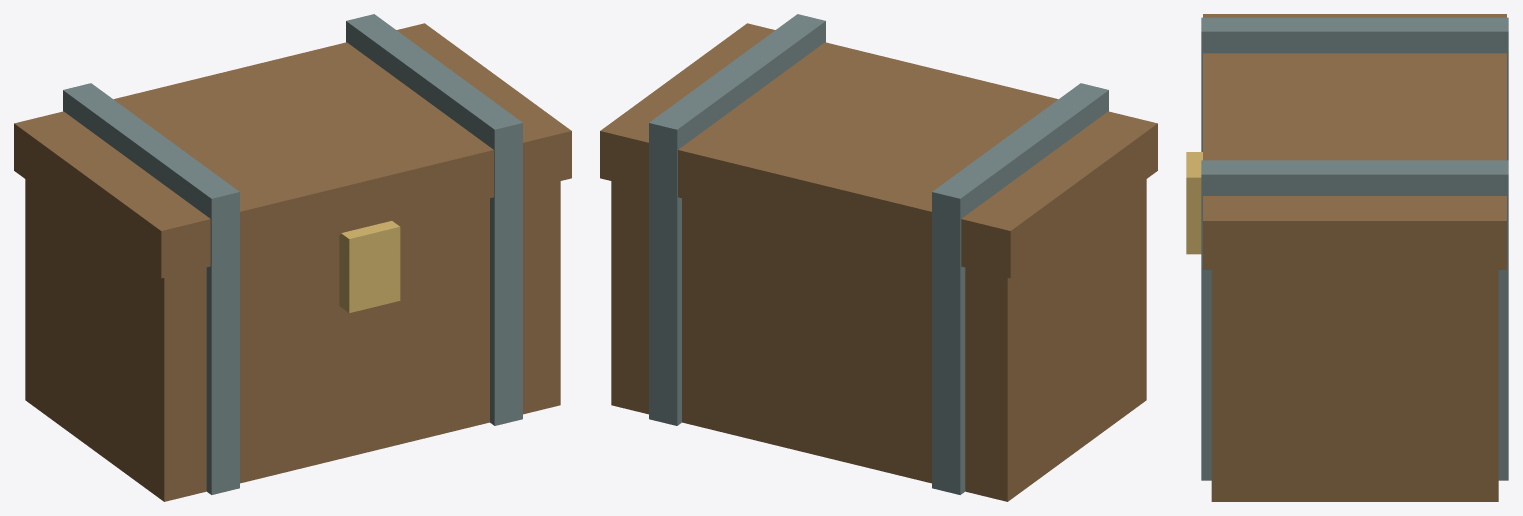
File: dungeon_chest.glb
3 views of the same model, side by side, from view 1: azimuth 30°, elevation 25°; view 2: azimuth 150°, elevation 25°; view 3: azimuth 270°, elevation 25° (orthographic). The views are drawn at different scales.
Visible parts, largest first — view 1: Chest base; view 2: Chest base; view 3: Chest base.
Part boxes in pixels (<box>): Chest base: <box>14,14,571,501</box>; Chest base: <box>600,14,1157,501</box>; Chest base: <box>1186,14,1508,501</box>.
Size of the model in its own units: 1.45 by 1 by 0.955.
